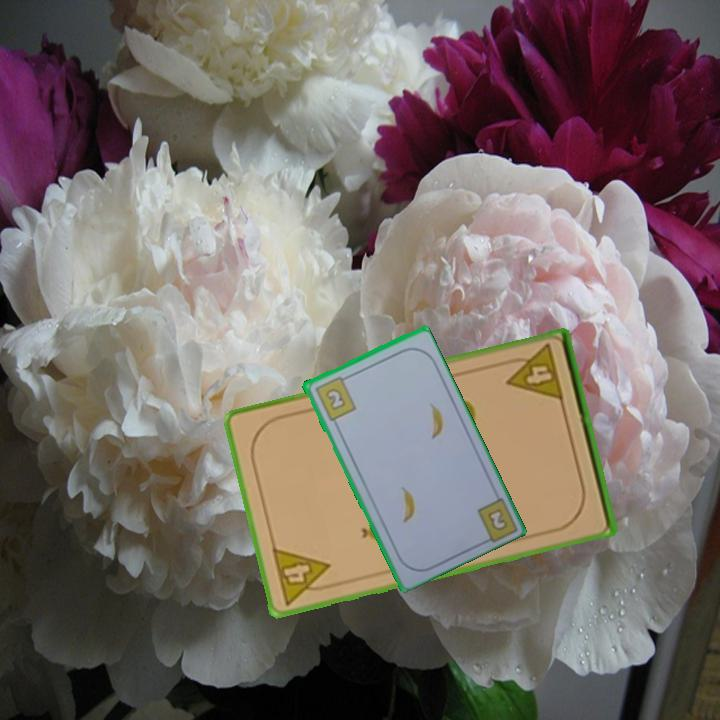2b: (311, 372, 359, 423), (483, 505, 510, 534)
4p: (499, 340, 567, 405), (268, 544, 337, 608)
